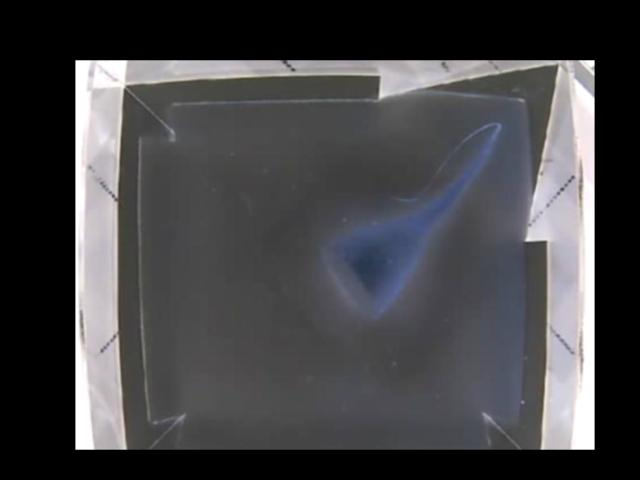Mooli: (320, 207, 433, 327)
